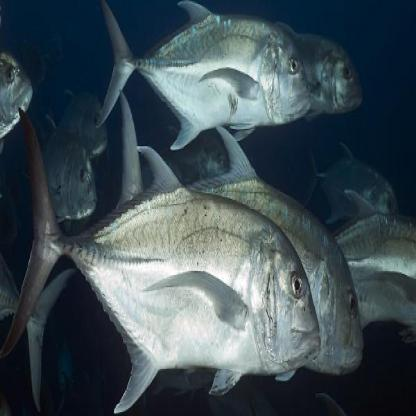Bio: (5, 95, 322, 407), (88, 6, 309, 154)
